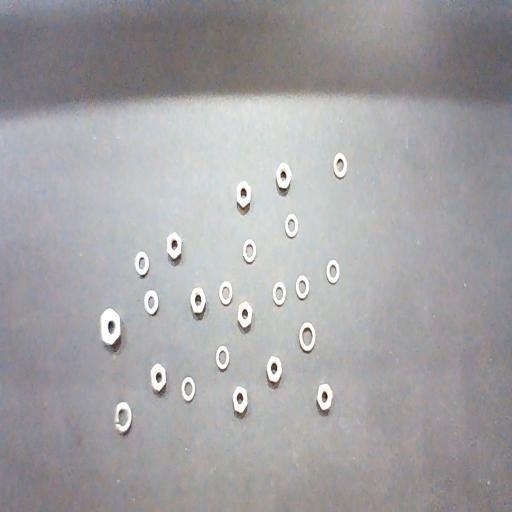nut: (100, 308, 122, 347), (150, 362, 166, 392), (232, 385, 248, 415), (276, 162, 292, 190), (190, 287, 206, 315), (237, 301, 253, 329), (266, 356, 282, 384), (316, 384, 332, 412), (236, 180, 251, 209), (167, 233, 182, 261)
washer: (114, 401, 132, 434), (299, 322, 316, 352), (144, 290, 159, 316), (218, 280, 233, 306), (333, 152, 347, 179), (135, 250, 149, 276), (182, 376, 196, 402), (284, 213, 298, 238), (242, 238, 256, 263), (216, 345, 230, 370), (272, 281, 286, 306), (295, 275, 309, 300), (326, 259, 340, 284)
